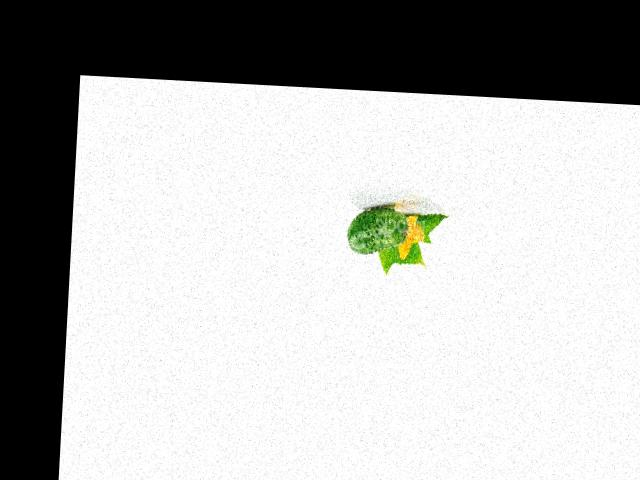cucumber: (345, 205, 407, 256)
